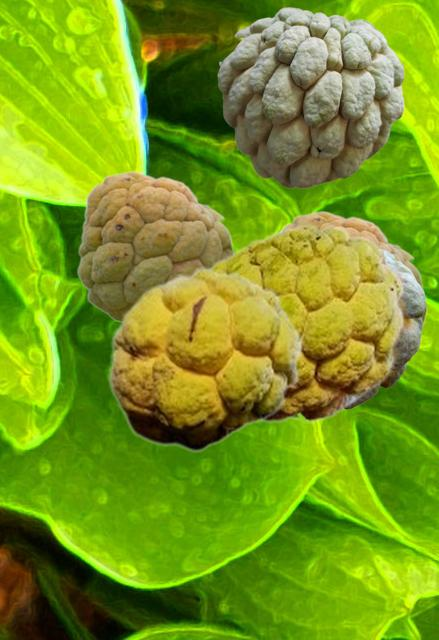atis: (209, 223, 404, 422), (107, 266, 302, 451), (217, 7, 403, 187), (76, 170, 234, 322), (281, 210, 426, 327), (345, 249, 424, 410)
